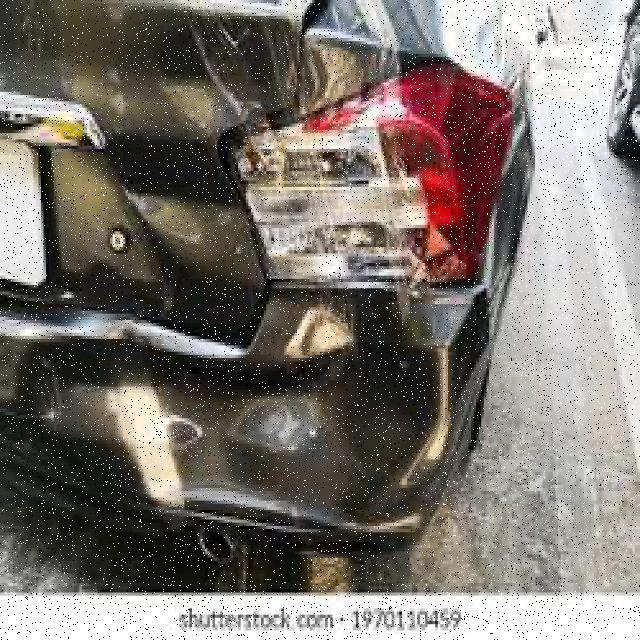Taillight-Damage: (235, 73, 507, 276)
rear-bumper-dent: (0, 256, 522, 554)
